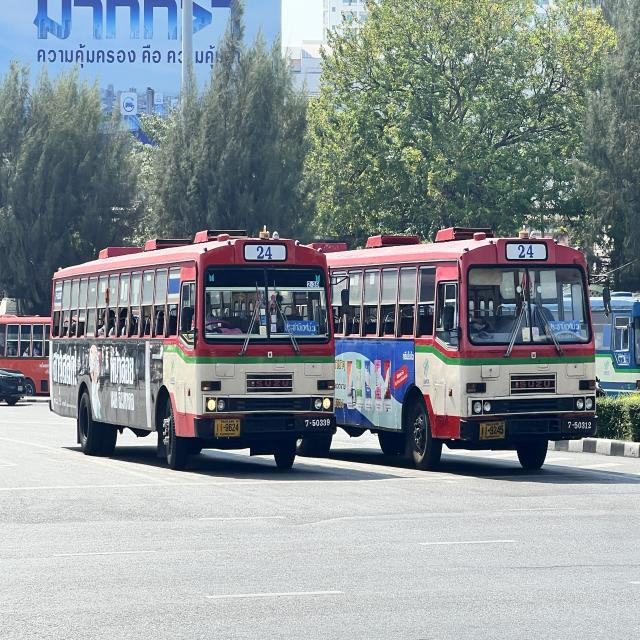BMTA-bus: (48, 231, 337, 472), (324, 230, 600, 473)
Bus-Line-Number: (242, 241, 292, 265), (506, 241, 550, 262)
Destination-Sign-Normal: (548, 320, 582, 342), (283, 319, 319, 336)
